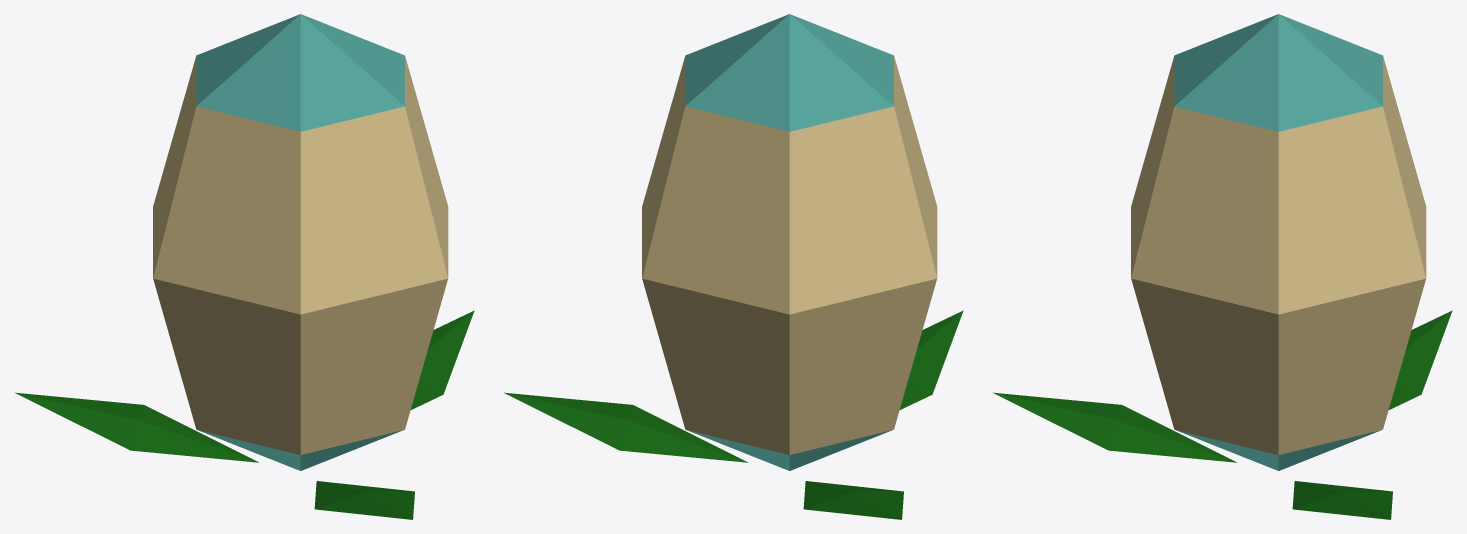
File: food_egg_b.fbx
The picture shows the model from 3 angles, left to right: view 1: azimuth 30°, elevation 25°; view 2: azimuth 150°, elevation 25°; view 3: azimuth 270°, elevation 25°; orthographic projection.
Parts seen in each view (by area): view 1: food_egg_b; view 2: food_egg_b; view 3: food_egg_b.
Boxes of the visible parts, x1,y1,x2,y2 form: food_egg_b: (15, 14, 474, 519); food_egg_b: (504, 14, 963, 519); food_egg_b: (993, 14, 1452, 519).
Size of the model in its own units: 146 by 148 by 135.
